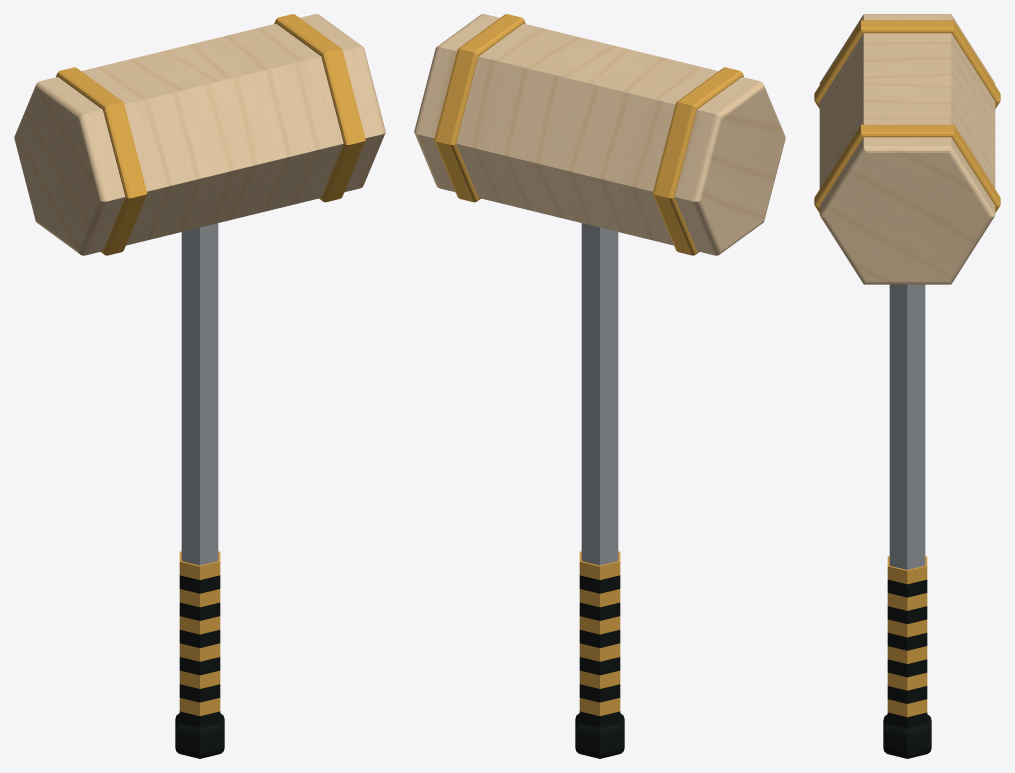
The model's file is hammer_midaru.fbx.
3 views of the same model, side by side, from view 1: azimuth 30°, elevation 25°; view 2: azimuth 150°, elevation 25°; view 3: azimuth 270°, elevation 25° (orthographic). The views are drawn at different scales.
Visible parts, largest first — view 1: midaru_hammer; view 2: midaru_hammer; view 3: midaru_hammer.
Part boxes in pixels (left/top/right/bottom): midaru_hammer: left=14, top=14, right=385, bottom=758; midaru_hammer: left=414, top=14, right=785, bottom=758; midaru_hammer: left=814, top=14, right=1000, bottom=758.
Bounding box in the file's own units: 1.1 × 2.54 × 0.636.
5 materials, 1 textured.
